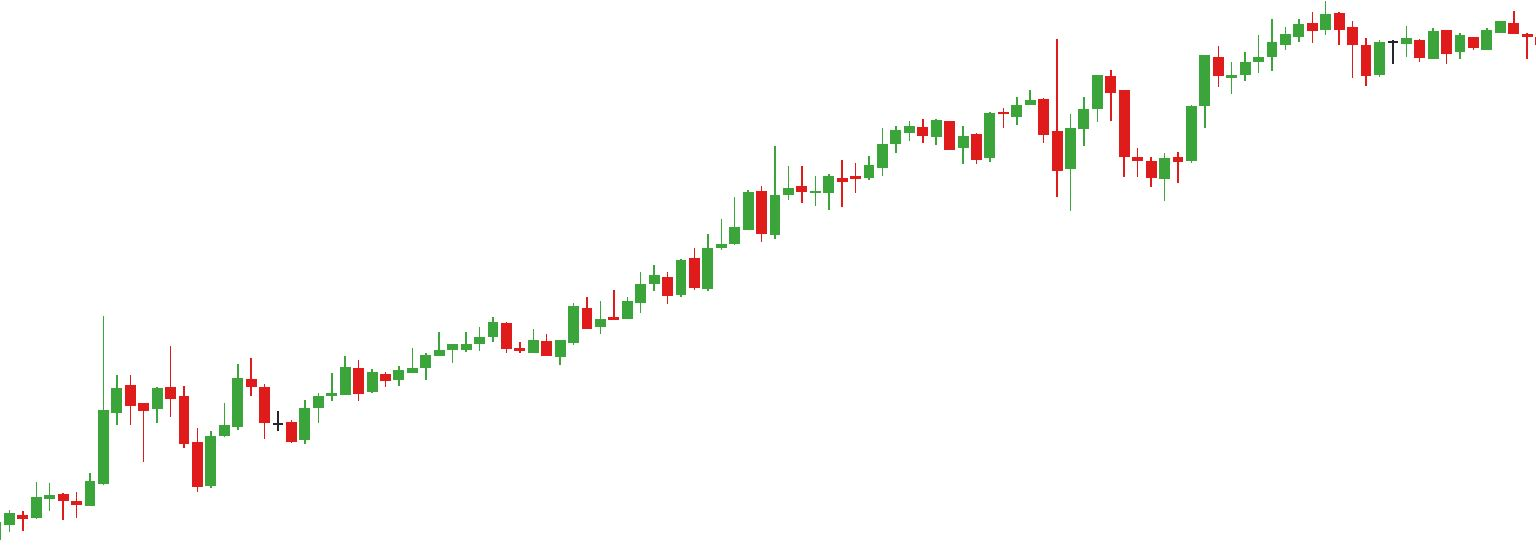buy: (971, 79, 1078, 219), (134, 365, 218, 503)
